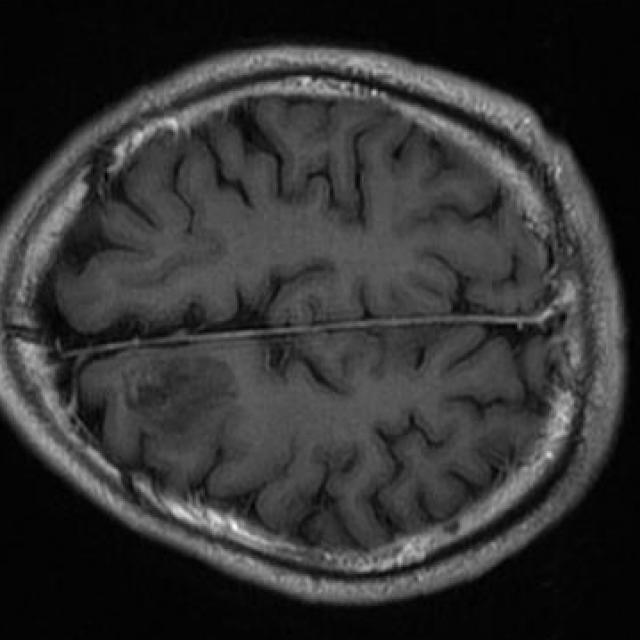glioma: (128, 358, 241, 439)
